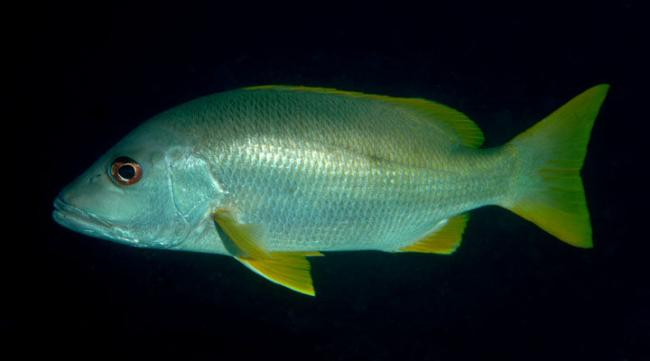fish: (53, 85, 613, 298)
